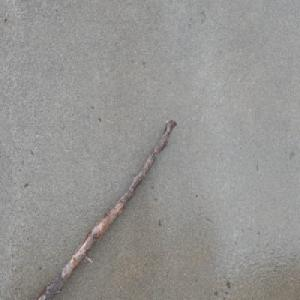Wood: (26, 116, 178, 300)
